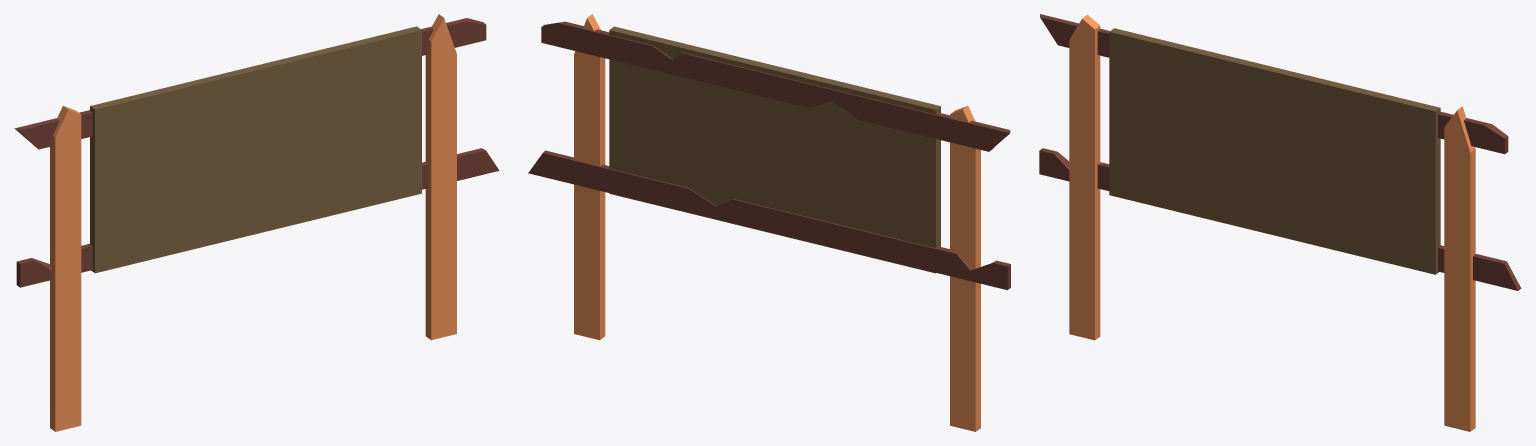
Rendered from post.fbx.
The picture shows the model from 3 angles, left to right: view 1: azimuth 30°, elevation 25°; view 2: azimuth 150°, elevation 25°; view 3: azimuth 330°, elevation 25°; orthographic projection.
Parts seen in each view (by area): view 1: Cube.047, Cube.043, Cube.044, Cube.045, Cube.046; view 2: Cube.047, Cube.045, Cube.046, Cube.043, Cube.044; view 3: Cube.047, Cube.043, Cube.044, Cube.045, Cube.046.
Part boxes in pixels (left/top/right/bottom): Cube.047: left=90, top=26, right=421, bottom=273; Cube.043: left=50, top=106, right=81, bottom=431; Cube.044: left=425, top=14, right=456, bottom=340; Cube.045: left=16, top=148, right=499, bottom=287; Cube.046: left=14, top=18, right=486, bottom=149; Cube.047: left=609, top=26, right=940, bottom=273; Cube.045: left=528, top=150, right=1010, bottom=290; Cube.046: left=541, top=21, right=1010, bottom=151; Cube.043: left=950, top=106, right=980, bottom=431; Cube.044: left=574, top=14, right=605, bottom=340; Cube.047: left=1109, top=28, right=1440, bottom=274; Cube.043: left=1069, top=15, right=1100, bottom=340; Cube.044: left=1444, top=106, right=1475, bottom=431; Cube.045: left=1039, top=148, right=1521, bottom=290; Cube.046: left=1040, top=14, right=1508, bottom=154.
Size of the model in its own units: 10280 by 6504 by 226.
